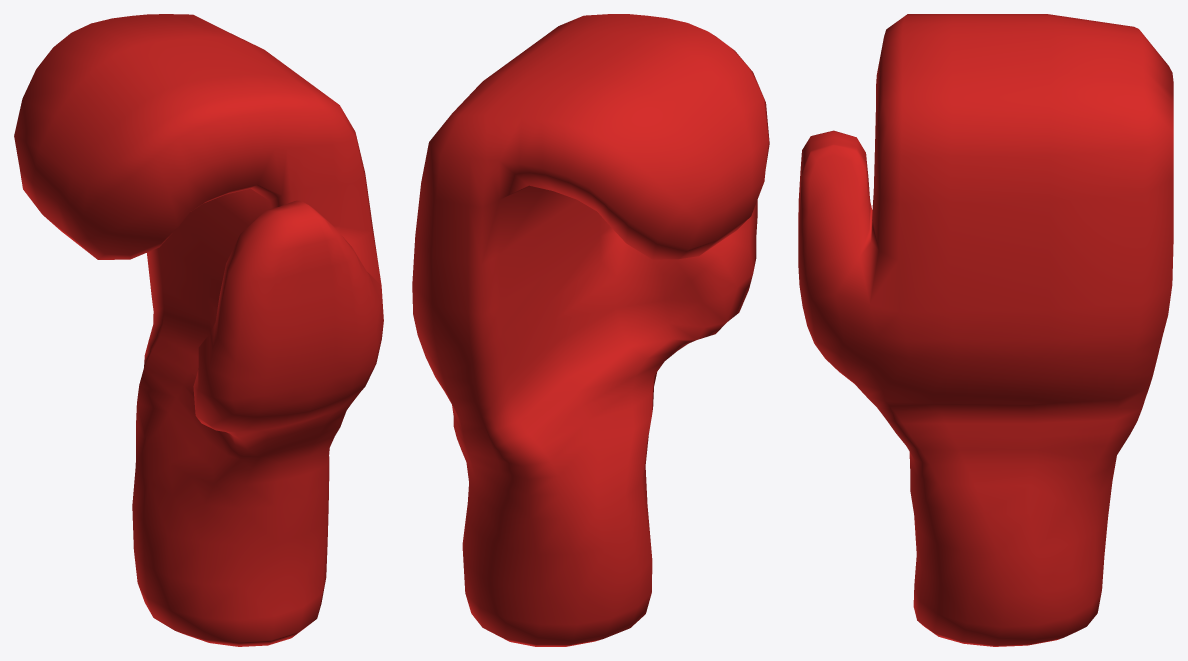
File: bxglvsp(right).dae
3 views of the same model, side by side, from view 1: azimuth 30°, elevation 25°; view 2: azimuth 150°, elevation 25°; view 3: azimuth 270°, elevation 25° (orthographic). The views are drawn at different scales.
Parts seen in each view (by area): view 1: Cube_015; view 2: Cube_015; view 3: Cube_015.
Boxes of the visible parts, x1,y1,x2,y2 form: Cube_015: (14,14,383,646); Cube_015: (412,14,769,646); Cube_015: (798,14,1173,646).
Size of the model in its own units: 4.36 by 5.27 by 8.65.
